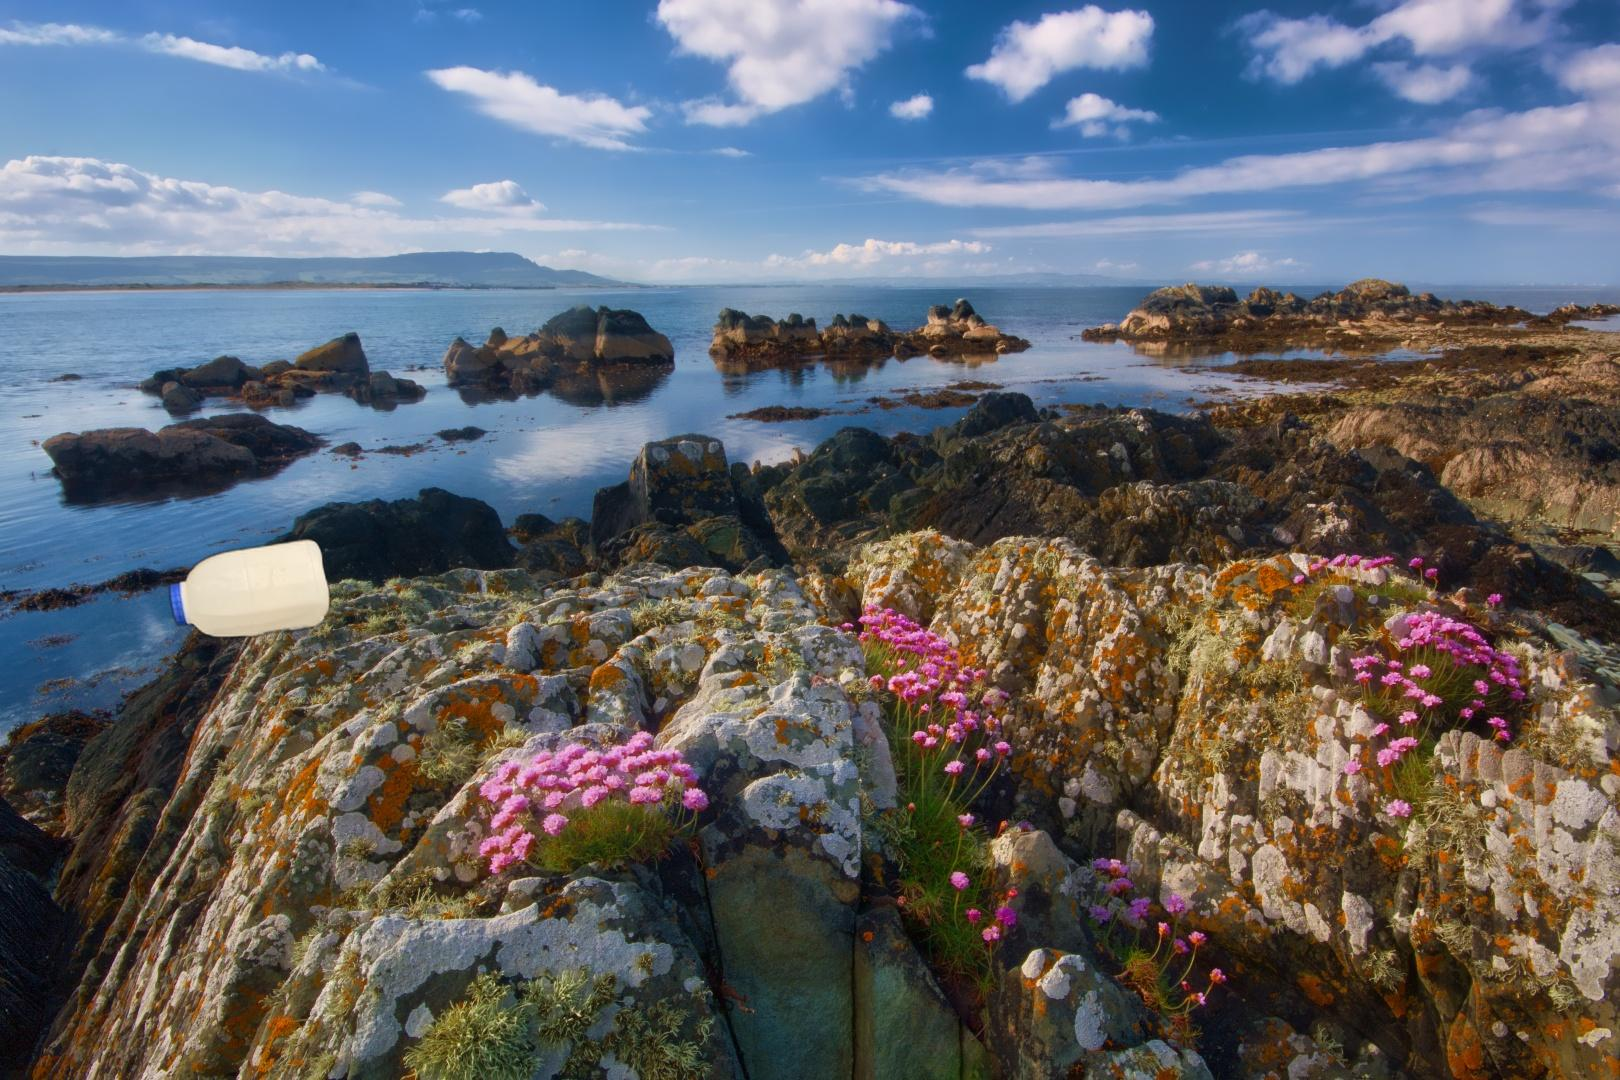plastic-bottles: (164, 532, 334, 644)
